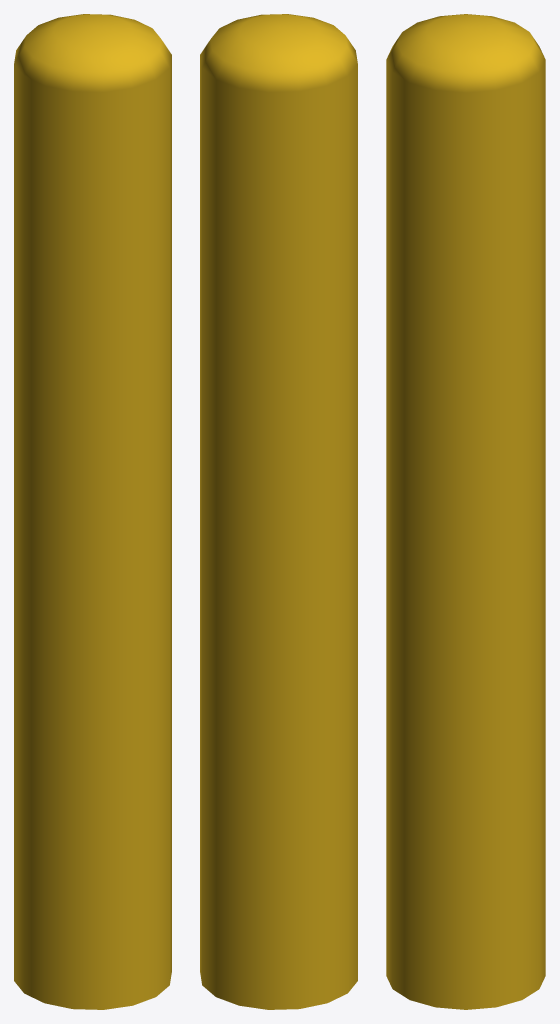
File: bollard_steel_42in.glb
3 renders of one model, left to right at view 1: azimuth 30°, elevation 25°; view 2: azimuth 150°, elevation 25°; view 3: azimuth 270°, elevation 25°, orthographic.
Visible parts, largest first — view 1: bollard_steel_42in-col; view 2: bollard_steel_42in-col; view 3: bollard_steel_42in-col.
Part boxes in pixels (x1,y1,x2,y2): bollard_steel_42in-col: (14, 14, 171, 1009); bollard_steel_42in-col: (200, 14, 357, 1009); bollard_steel_42in-col: (386, 14, 545, 1009).
Size of the model in its own units: 0.1676 by 1.1 by 0.1676.
